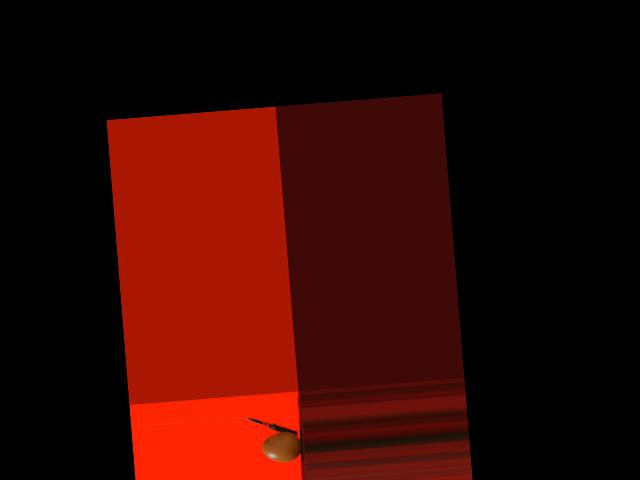egg: (262, 430, 302, 463)
